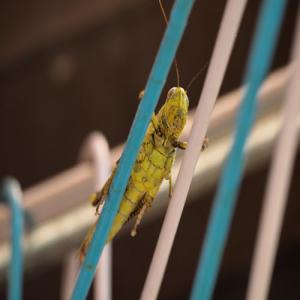locust: (89, 65, 217, 254)
